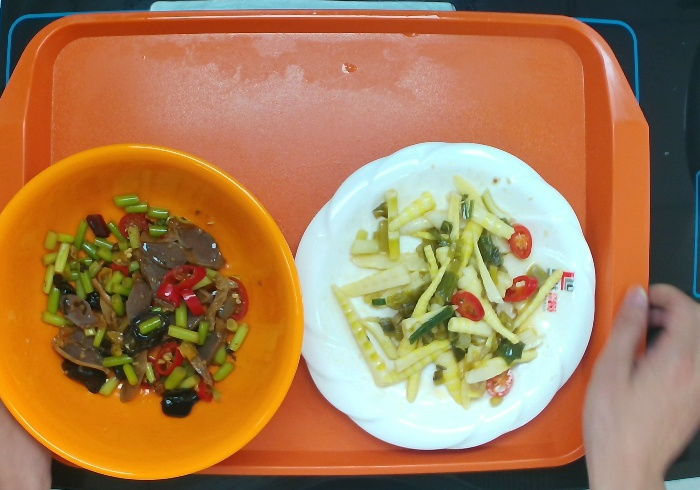ZNLD-Hua_Bian_Wan: (287, 140, 601, 458)
ZNLD-Ju_Se_Tang_Wan: (1, 142, 304, 482)
